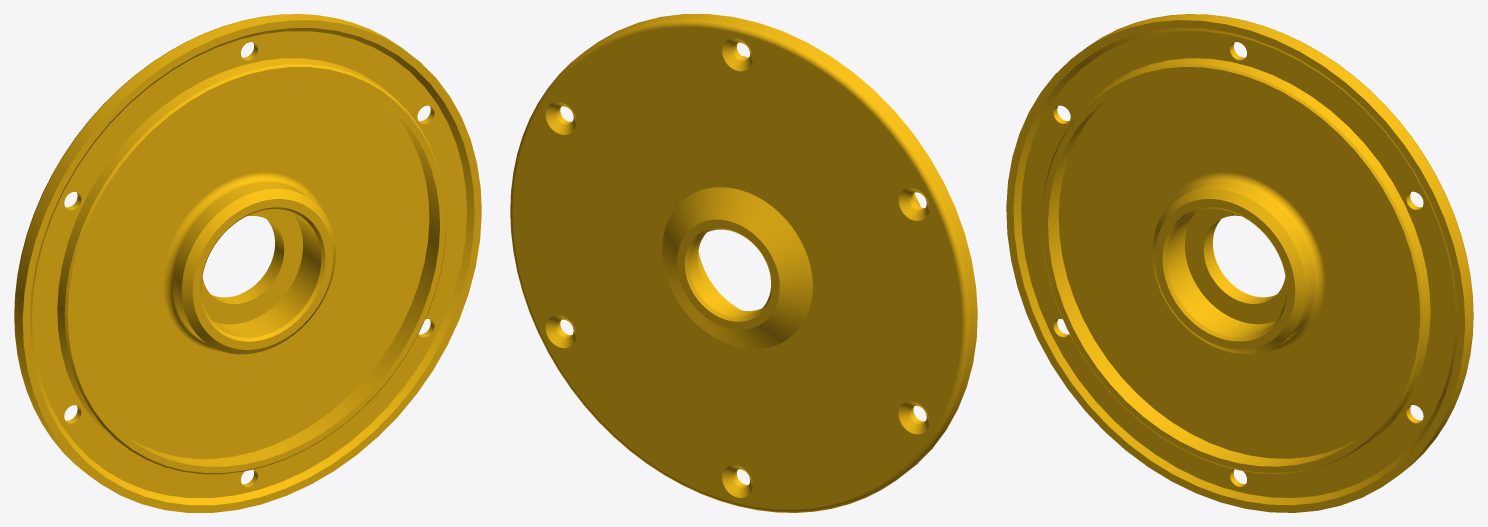
The model's file is hub_rim_back.dae.
3 views of the same model, side by side, from view 1: azimuth 30°, elevation 25°; view 2: azimuth 150°, elevation 25°; view 3: azimuth 330°, elevation 25° (orthographic).
Visible parts, largest first — view 1: hub_rim_back; view 2: hub_rim_back; view 3: hub_rim_back.
Boxes of the visible parts, box(x1,y1,x2,y2) form: hub_rim_back: box(14, 14, 481, 512); hub_rim_back: box(510, 14, 977, 512); hub_rim_back: box(1006, 14, 1473, 512).
Size of the model in its own units: 0.134 by 0.0154 by 0.134.
